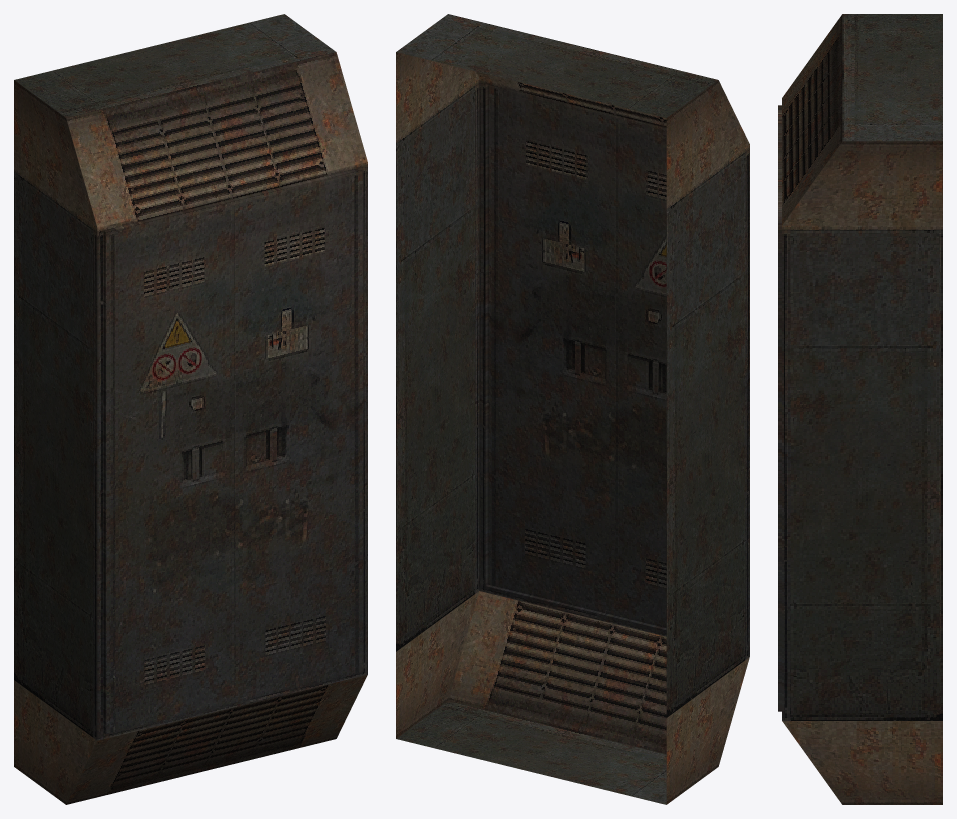
The model's file is electrical_equipment_1.glb.
3 renders of one model, left to right at view 1: azimuth 30°, elevation 25°; view 2: azimuth 150°, elevation 25°; view 3: azimuth 270°, elevation 25°, orthographic. The views are drawn at different scales.
Parts seen in each view (by area): view 1: electrical_equipment_1; view 2: electrical_equipment_1; view 3: electrical_equipment_1.
Part boxes in pixels (x1,y1,x2,y2): electrical_equipment_1: [14, 14, 367, 804]; electrical_equipment_1: [396, 14, 749, 804]; electrical_equipment_1: [778, 14, 942, 804].
Bounding box in the file's own units: 1.2 × 2.91 × 0.656.
1 material, 1 textured.
